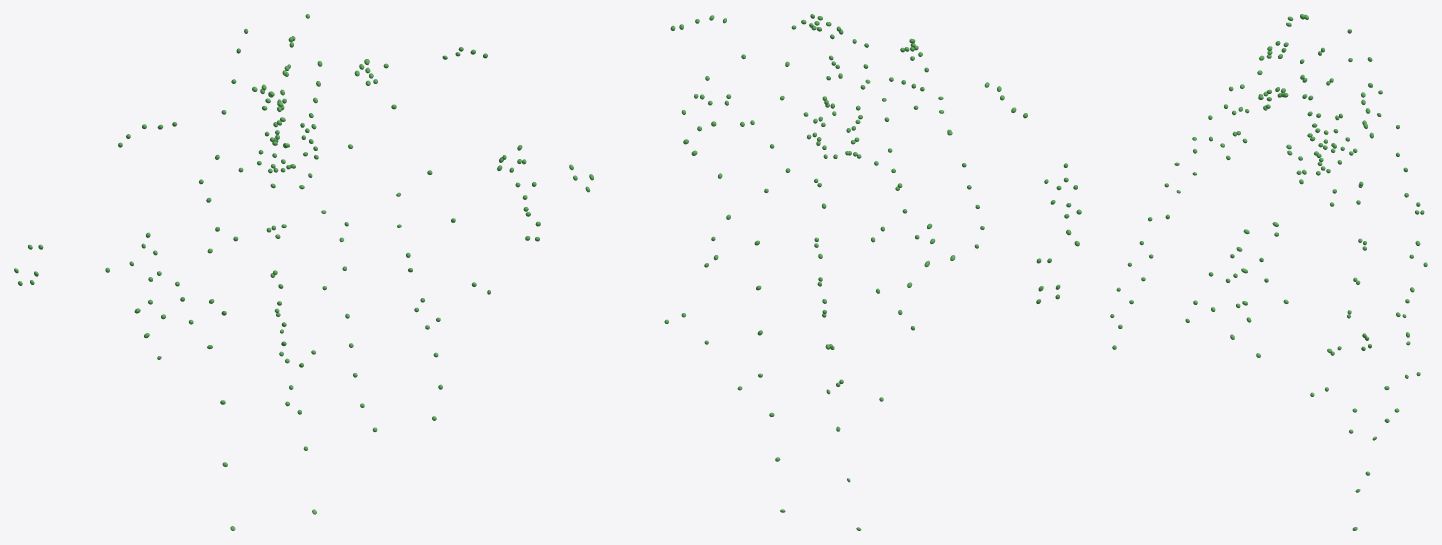
File: lymphatic.thorax.glb
3 renders of one model, left to right at view 1: azimuth 30°, elevation 25°; view 2: azimuth 150°, elevation 25°; view 3: azimuth 270°, elevation 25°, orthographic. The views are drawn at different scales.
Visible parts, largest first — view 1: no part large enough to name; view 2: no part large enough to name; view 3: intrapulmonary_nodes.
Part boxes in pixels (left/top/right/bottom): intrapulmonary_nodes: left=1185, top=137, right=1427, bottom=433.
Size of the model in its own units: 0.3005 by 0.2857 by 0.1752.
